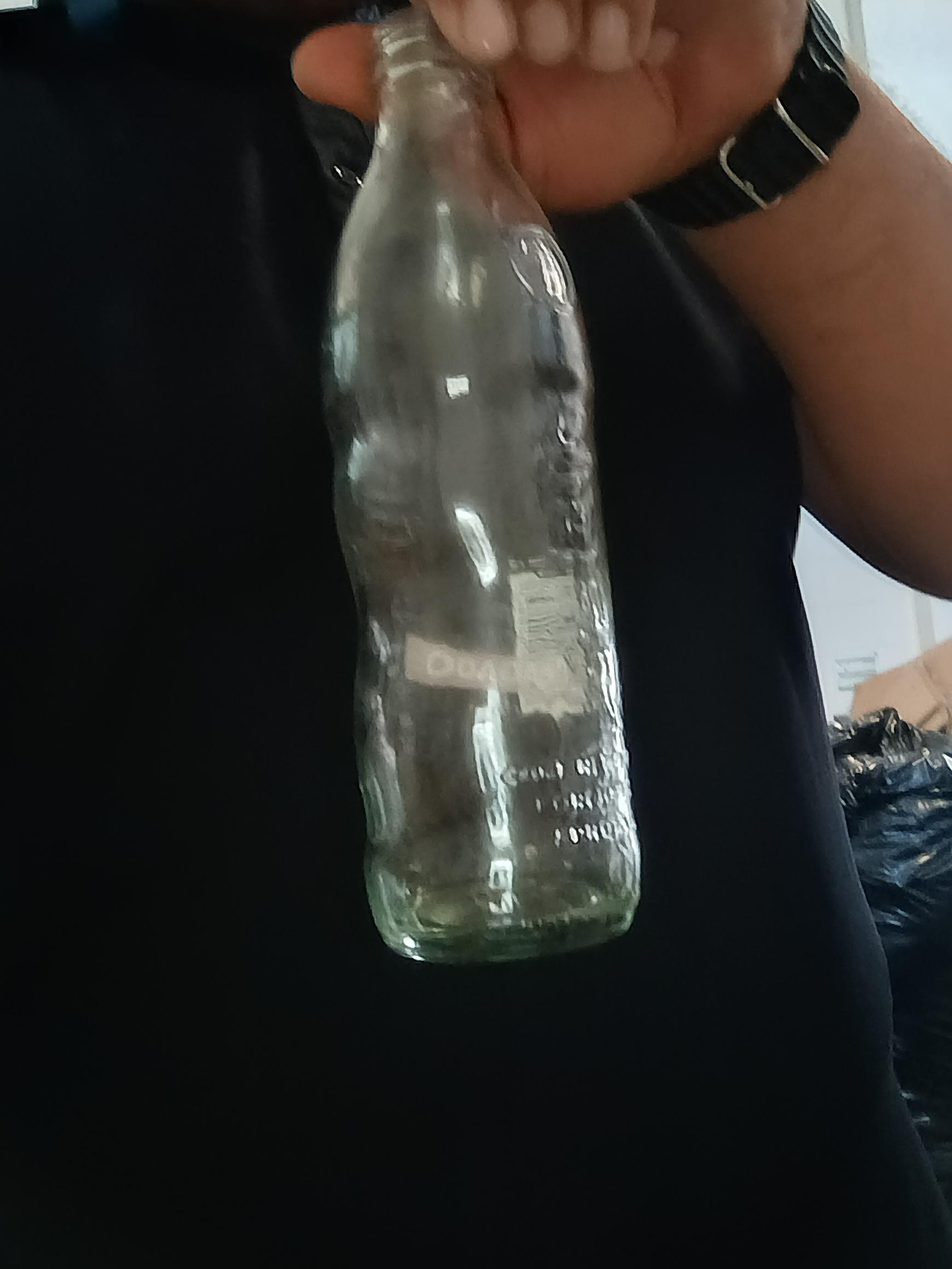Vidrio: (324, 11, 641, 966)
